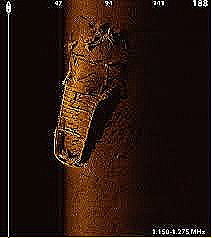ship: (53, 24, 118, 170)
